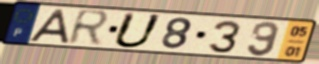3: (207, 19, 243, 54)
8: (160, 17, 193, 51)
9: (247, 20, 282, 58)
A: (26, 8, 71, 45)
R: (64, 8, 112, 48)
U: (110, 11, 165, 50)
